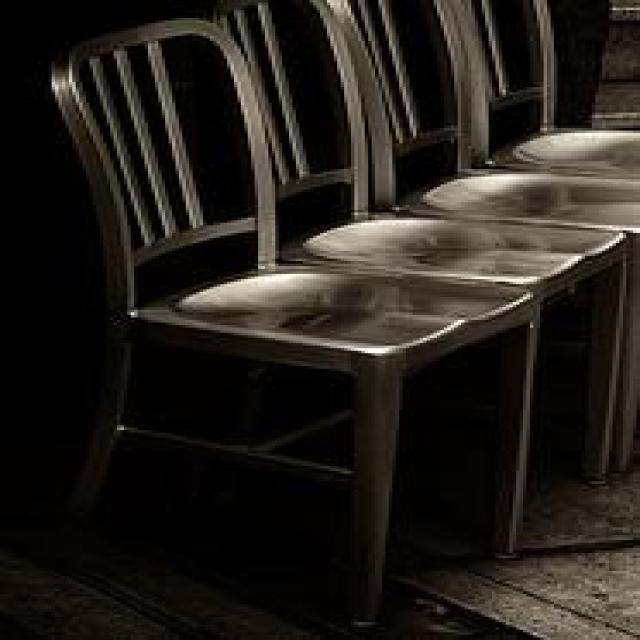chair: (48, 15, 537, 625)
